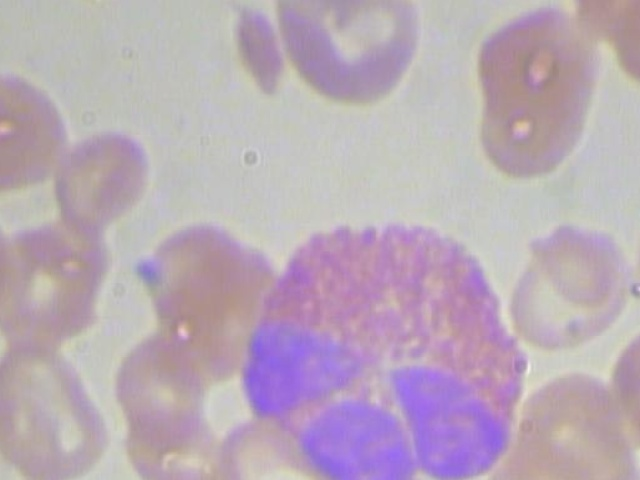RBC: (464, 2, 597, 187), (495, 207, 637, 348), (266, 0, 433, 116), (53, 118, 149, 227), (0, 65, 70, 209), (630, 180, 640, 322)
WBC: (226, 211, 532, 480)
